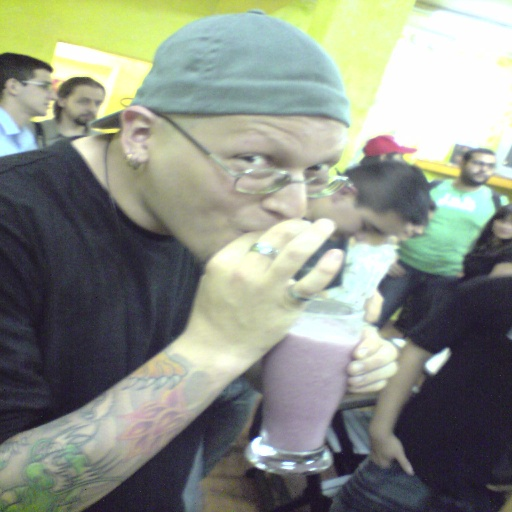hand: (174, 212, 362, 370), (343, 323, 398, 394), (366, 430, 415, 473), (486, 483, 511, 511), (384, 260, 407, 280)
